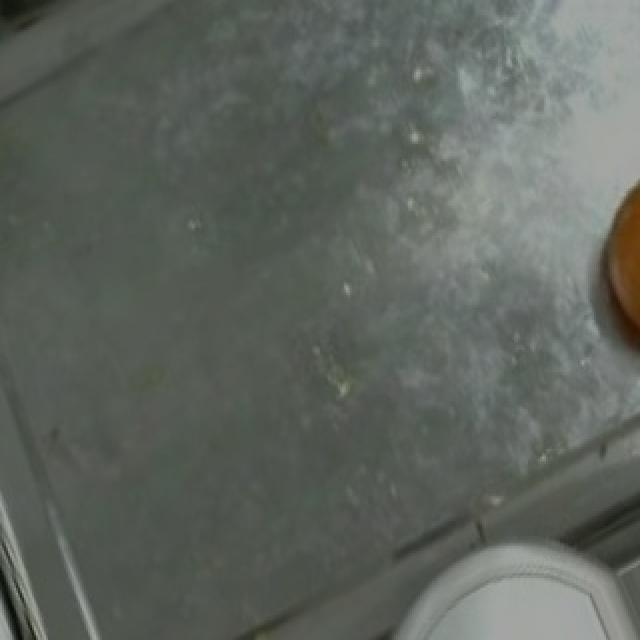Fruit: (396, 508, 634, 640), (578, 144, 640, 369)
